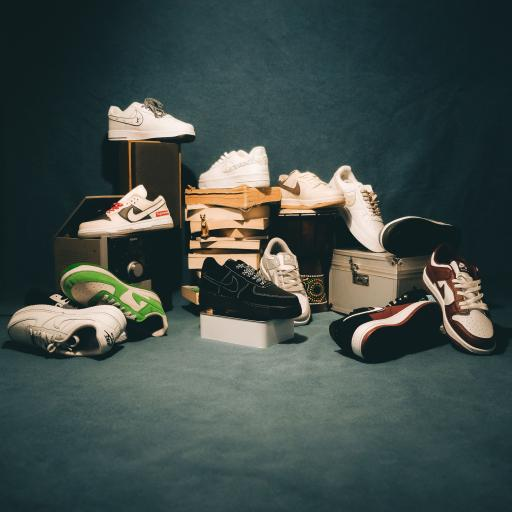shoe: (330, 290, 442, 360), (61, 263, 168, 336), (424, 244, 495, 354), (199, 258, 301, 319), (8, 305, 126, 356), (78, 185, 173, 238), (330, 166, 384, 252), (260, 238, 310, 325), (108, 98, 195, 143), (380, 217, 461, 257), (199, 147, 269, 189), (279, 170, 344, 209), (25, 288, 83, 309), (24, 288, 82, 309)
